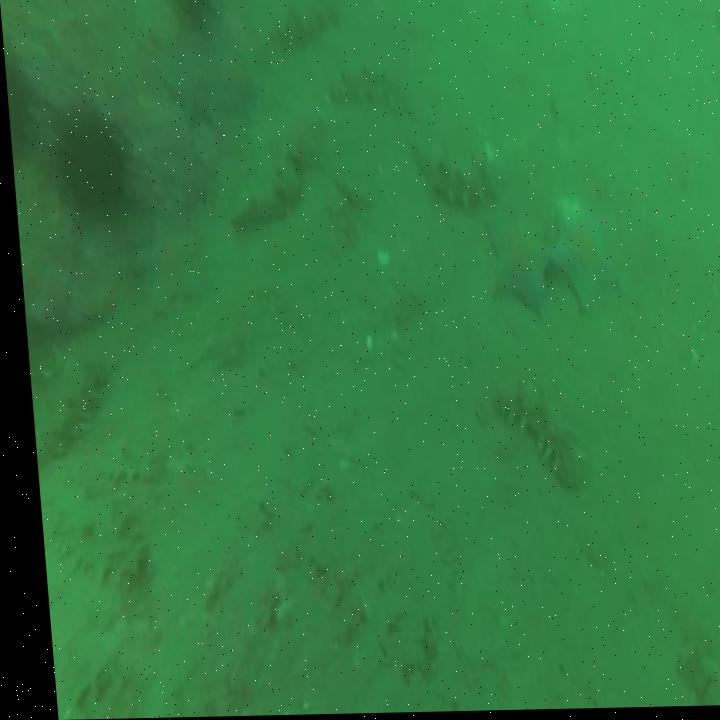echinus: (46, 110, 122, 216)
holothurian: (484, 378, 579, 493), (405, 132, 501, 214), (26, 356, 96, 464), (47, 521, 139, 581), (325, 59, 405, 119), (225, 171, 301, 231), (272, 0, 340, 47)
starfish: (482, 204, 550, 323), (548, 212, 615, 323), (129, 219, 198, 316)
